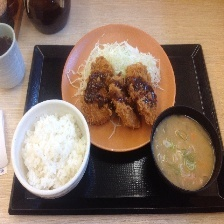rice: (11, 108, 89, 193)
